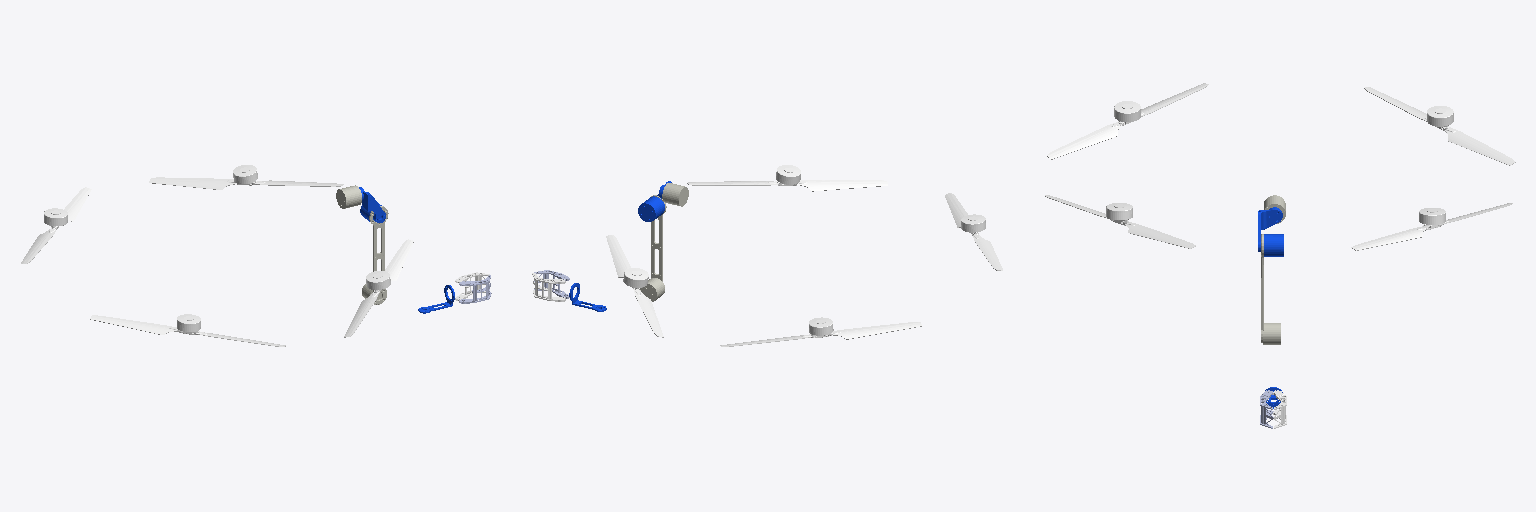
The robot description file, URDF, robot "swan_gamma_v2":
<?xml version="1.0" ?>
<robot name="swan_gamma_v2">
  <link name="base_link">
    <inertial>
      <origin xyz="-0.0035513 0.0013 -0.050331" rpy="0 0 0"/>
      <mass value="8.057"/>
      <inertia ixx="0.078395" ixy="0" ixz="0" iyy="0.422973" iyz="0" izz="0.493568"/>
    </inertial>
    <visual name="base_link_visual">
      <origin xyz="0 0 0" rpy="0 0 0"/>
      <geometry>
        <mesh filename="meshes/swan_uav_v2/base_link.STL" scale="1 1 1"/>
      </geometry>
      <material name="base_link_visual_0_mat">
        <color rgba="0.75294 0.75294 0.75294 1"/>
      </material>
    </visual>
    <collision name="base_link_collision">
      <origin xyz="0 0 -0.035" rpy="0 0 0"/>
      <geometry>
        <box size="0.42 0.30 0.08"/>
      </geometry>
    </collision>
    <collision name="landing_gear_front_left_foot_collision">
      <origin xyz="0.29254 -0.40851 -0.3" rpy="0 0 -0.034907"/>
      <geometry>
        <box size="0.18 0.12 0.09"/>
      </geometry>
    </collision>
    <collision name="landing_gear_rear_right_foot_collision">
      <origin xyz="-0.27747 0.4055 -0.3" rpy="0.038594 0.0021601 1.48"/>
      <geometry>
        <box size="0.18 0.12 0.09"/>
      </geometry>
    </collision>
    <collision name="landing_gear_front_right_foot_collision">
      <origin xyz="0.32013 0.38551 -0.3" rpy="0.13586 -0.002121 -1.5902"/>
      <geometry>
        <box size="0.18 0.12 0.09"/>
      </geometry>
    </collision>
    <collision name="landing_gear_rear_left_foot_collision">
      <origin xyz="-0.30506 -0.38852 -0.3" rpy="0.050542 0.0021537 1.4933"/>
      <geometry>
        <box size="0.18 0.12 0.09"/>
      </geometry>
    </collision>
  </link>
  <link name="rot1_Link">
    <inertial>
      <origin xyz="0.0052133 0.00055592 -0.044441" rpy="0 0 0"/>
      <mass value="0.471"/>
      <inertia ixx="2.787E-04" ixy="0" ixz="0" iyy="1.872E-04" iyz="0" izz="1.874E-04"/>
    </inertial>
    <visual name="rot1_Link_visual">
      <origin xyz="0 0 0" rpy="0 0 0"/>
      <geometry>
        <mesh filename="meshes/swan_uav_v2/rot1_Link.STL" scale="1 1 1"/>
      </geometry>
      <material name="rot1_Link_visual_0_mat">
        <color rgba="1 1 1 1"/>
      </material>
    </visual>
  </link>
  <link name="rot2_Link">
    <inertial>
      <origin xyz="-0.00055256 -0.00036989 -0.04471" rpy="0 0 0"/>
      <mass value="0.471"/>
      <inertia ixx="2.787E-04" ixy="0" ixz="0" iyy="1.872E-04" iyz="0" izz="1.874E-04"/>
    </inertial>
    <visual name="rot2_Link_visual">
      <origin xyz="0 0 0" rpy="0 0 0"/>
      <geometry>
        <mesh filename="meshes/swan_uav_v2/rot2_Link.STL" scale="1 1 1"/>
      </geometry>
      <material name="rot2_Link_visual_0_mat">
        <color rgba="1 1 1 1"/>
      </material>
    </visual>
  </link>
  <link name="rot3_Link">
    <inertial>
      <origin xyz="0.00023425 -3.3312e-06 -0.04471" rpy="0 0 0"/>
      <mass value="0.471"/>
      <inertia ixx="2.787E-04" ixy="0" ixz="0" iyy="1.872E-04" iyz="0" izz="1.874E-04"/>
    </inertial>
    <visual name="rot3_Link_visual">
      <origin xyz="0 0 0" rpy="0 0 0"/>
      <geometry>
        <mesh filename="meshes/swan_uav_v2/rot3_Link.STL" scale="1 1 1"/>
      </geometry>
      <material name="rot3_Link_visual_0_mat">
        <color rgba="1 1 1 1"/>
      </material>
    </visual>
  </link>
  <link name="rot4_Link">
    <inertial>
      <origin xyz="0.00037994 3.5059e-05 -0.045023" rpy="0 0 0"/>
      <mass value="0.471"/>
      <inertia ixx="2.787E-04" ixy="0" ixz="0" iyy="1.872E-04" iyz="0" izz="1.874E-04"/>
    </inertial>
    <visual name="rot4_Link_visual">
      <origin xyz="0 0 0" rpy="0 0 0"/>
      <geometry>
        <mesh filename="meshes/swan_uav_v2/rot4_Link.STL" scale="1 1 1"/>
      </geometry>
      <material name="rot4_Link_visual_0_mat">
        <color rgba="1 1 1 1"/>
      </material>
    </visual>
  </link>
  <joint name="rot1_Joint" type="continuous">
    <origin xyz="0.29254 -0.40851 -0.058329" rpy="0 0 -0.034907"/>
    <parent link="base_link"/>
    <child link="rot1_Link"/>
    <axis xyz="0 0 -1"/>
  </joint>
  <joint name="rot2_Joint" type="continuous">
    <origin xyz="-0.27747 0.4055 -0.058247" rpy="0.038594 0.0021601 1.48"/>
    <parent link="base_link"/>
    <child link="rot2_Link"/>
    <axis xyz="0 0 -1"/>
  </joint>
  <joint name="rot3_Joint" type="continuous">
    <origin xyz="0.32013 0.38551 -0.058348" rpy="0.13586 -0.002121 -1.5902"/>
    <parent link="base_link"/>
    <child link="rot3_Link"/>
    <axis xyz="0 0 -1"/>
  </joint>
  <joint name="rot4_Joint" type="continuous">
    <origin xyz="-0.30506 -0.38852 -0.058253" rpy="0.050542 0.0021537 1.4933"/>
    <parent link="base_link"/>
    <child link="rot4_Link"/>
    <axis xyz="0 0 -1"/>
  </joint>
  <link name="gamma_arm__gamma_arm_base_link">
    <inertial>
      <origin xyz="0.026 0 0" rpy="0 -0 0"/>
      <mass value="0.361"/>
      <inertia ixx="0.00014566" ixy="0" ixz="0" iyy="0.00015872" iyz="0" izz="0.00015872"/>
    </inertial>
    <visual name="gamma_arm_base_link_visual">
      <origin xyz="0 0 0" rpy="0 -0 0"/>
      <geometry>
        <mesh filename="meshes/gamma_arm/base_link0.STL" scale="1 1 1"/>
      </geometry>
      <material name="gamma_arm__gamma_arm_base_link_visual_0_mat">
        <color rgba="0.82 0.82 0.78 1"/>
      </material>
    </visual>
    <collision name="gamma_arm_base_link_collision">
      <origin xyz="0 0 0" rpy="0 0 0"/>
      <geometry>
        <mesh filename="meshes/gamma_arm/base_link0.STL" scale="1 1 1"/>
      </geometry>
    </collision>
  </link>
  <link name="gamma_arm__A_Link">
    <inertial>
      <origin xyz="0.036314 0.007409 0.053527" rpy="0 -0 0"/>
      <mass value="0.482"/>
      <inertia ixx="0.00048916" ixy="0" ixz="0" iyy="0.00049299" iyz="0" izz="0.0003462"/>
    </inertial>
    <visual name="A_Link_visual">
      <origin xyz="0 0 0" rpy="0 -0 0"/>
      <geometry>
        <mesh filename="meshes/gamma_arm/A_Link.STL" scale="1 1 1"/>
      </geometry>
      <material name="gamma_arm__A_Link_visual_0_mat">
        <color rgba="0.12 0.38 0.95 0.85"/>
      </material>
    </visual>
    <collision name="A_Link_collision">
      <origin xyz="0 0 0" rpy="0 0 0"/>
      <geometry>
        <mesh filename="meshes/gamma_arm/A_Link.STL" scale="1 1 1"/>
      </geometry>
    </collision>
  </link>
  <link name="gamma_arm__B_Link">
    <inertial>
      <origin xyz="-0.14539 -0.024762 0.16247" rpy="0 -0 0"/>
      <mass value="0.481"/>
      <inertia ixx="0.0015459" ixy="0" ixz="0" iyy="0.0025514" iyz="0" izz="0.0012874"/>
    </inertial>
    <visual name="B_Link_visual">
      <origin xyz="0 0 0" rpy="0 -0 0"/>
      <geometry>
        <mesh filename="meshes/gamma_arm/B_Link.STL" scale="1 1 1"/>
      </geometry>
      <material name="gamma_arm__B_Link_visual_0_mat">
        <color rgba="0.82 0.82 0.78 1"/>
      </material>
    </visual>
    <collision name="B_Link_collision">
      <origin xyz="0 0 0" rpy="0 0 0"/>
      <geometry>
        <mesh filename="meshes/gamma_arm/B_Link.STL" scale="1 1 1"/>
      </geometry>
    </collision>
  </link>
  <link name="gamma_arm__C_Link">
    <inertial>
      <origin xyz="0.0017414 0.023334 0.057853" rpy="0 -0 0"/>
      <mass value="0.239"/>
      <inertia ixx="0.00014499" ixy="0" ixz="0" iyy="0.0001552" iyz="0" izz="0.00010724"/>
    </inertial>
    <visual name="C_Link_visual">
      <origin xyz="0 0 0" rpy="0 -0 0"/>
      <geometry>
        <mesh filename="meshes/gamma_arm/C_Link.STL" scale="1 1 1"/>
      </geometry>
      <material name="gamma_arm__C_Link_visual_0_mat">
        <color rgba="0.12 0.38 0.95 0.85"/>
      </material>
    </visual>
    <collision name="C_Link_collision">
      <origin xyz="0 0 0" rpy="0 0 0"/>
      <geometry>
        <mesh filename="meshes/gamma_arm/C_Link.STL" scale="1 1 1"/>
      </geometry>
    </collision>
  </link>
  <link name="gamma_arm__D_Link">
    <inertial>
      <origin xyz="0.13241 -0.004409 7.6e-05" rpy="0 -0 0"/>
      <mass value="0.262"/>
      <inertia ixx="0.00010245" ixy="0" ixz="0" iyy="0.00052076" iyz="0" izz="0.0005369"/>
    </inertial>
    <visual name="D_Link_visual">
      <origin xyz="0 0 0" rpy="0 -0 0"/>
      <geometry>
        <mesh filename="meshes/gamma_arm/D_Link.STL" scale="1 1 1"/>
      </geometry>
      <material name="gamma_arm__D_Link_visual_0_mat">
        <color rgba="0.82 0.82 0.78 1"/>
      </material>
    </visual>
    <collision name="D_Link_collision">
      <origin xyz="0 0 0" rpy="0 0 0"/>
      <geometry>
        <mesh filename="meshes/gamma_arm/D_Link.STL" scale="1 1 1"/>
      </geometry>
    </collision>
  </link>
  <link name="gamma_arm__E_Link">
    <inertial>
      <origin xyz="1.62e-06 0.014793 0.051607" rpy="0 -0 0"/>
      <mass value="0.042397"/>
      <inertia ixx="6.544e-05" ixy="0" ixz="0" iyy="5.714e-05" iyz="0" izz="2.005e-05"/>
    </inertial>
    <visual name="E_Link_visual">
      <origin xyz="0 0 0" rpy="0 -0 0"/>
      <geometry>
        <mesh filename="meshes/gamma_arm/E_Link.STL" scale="1 1 1"/>
      </geometry>
      <material name="gamma_arm__E_Link_visual_0_mat">
        <color rgba="0.12 0.38 0.95 0.85"/>
      </material>
    </visual>
    <collision name="E_Link_collision">
      <origin xyz="0 0 0" rpy="0 0 0"/>
      <geometry>
        <mesh filename="meshes/gamma_arm/E_Link.STL" scale="1 1 1"/>
      </geometry>
    </collision>
  </link>
  <link name="gamma_arm__F_Link">
    <inertial>
      <origin xyz="-4.643e-05 0.00010323 -0.024394" rpy="0 -0 0"/>
      <mass value="0.192"/>
      <inertia ixx="8.297e-05" ixy="0" ixz="0" iyy="8.274e-05" iyz="0" izz="6.854e-05"/>
    </inertial>
    <visual name="F_Link_visual">
      <origin xyz="0 0 0" rpy="0 -0 0"/>
      <geometry>
        <mesh filename="meshes/gamma_arm/F_Link.STL" scale="1 1 1"/>
      </geometry>
      <material name="gamma_arm__F_Link_visual_0_mat">
        <color rgba="0.82 0.82 0.78 1"/>
      </material>
    </visual>
    <collision name="F_Link_collision">
      <origin xyz="0 0 0" rpy="0 0 0"/>
      <geometry>
        <mesh filename="meshes/gamma_arm/F_Link.STL" scale="1 1 1"/>
      </geometry>
    </collision>
  </link>
  <joint name="gamma_arm__A" type="revolute">
    <origin xyz="0.0613 0 0" rpy="-0.5 0 0"/>
    <parent link="gamma_arm__gamma_arm_base_link"/>
    <child link="gamma_arm__A_Link"/>
    <axis xyz="1 0 0"/>
    <dynamics damping="0.5" friction="0.01"/>
    <limit lower="-5.0" upper="5.0" effort="180" velocity="3.75"/>
  </joint>
  <joint name="gamma_arm__B" type="revolute">
    <origin xyz="0.042986 0.03395 0.064067" rpy="0 0.7299 0"/>
    <parent link="gamma_arm__A_Link"/>
    <child link="gamma_arm__B_Link"/>
    <axis xyz="0 -1 0"/>
    <dynamics damping="0.5" friction="0.01"/>
    <limit lower="-3.2" upper="3.2" effort="200" velocity="3.75"/>
  </joint>
  <joint name="gamma_arm__C" type="revolute">
    <origin xyz="-0.16587 -0.057 0.18536" rpy="0 -0.87406 0"/>
    <parent link="gamma_arm__B_Link"/>
    <child link="gamma_arm__C_Link"/>
    <axis xyz="0 -1 0"/>
    <dynamics damping="0.5" friction="0.01"/>
    <limit lower="-3.2" upper="3.2" effort="80" velocity="3.75"/>
  </joint>
  <joint name="gamma_arm__D" type="revolute">
    <origin xyz="0.023891 0.025 0.060208" rpy="-1.5708 0.14406 0"/>
    <parent link="gamma_arm__C_Link"/>
    <child link="gamma_arm__D_Link"/>
    <axis xyz="1 0 0"/>
    <dynamics damping="0.5" friction="0.01"/>
    <limit lower="-3.2" upper="3.2" effort="20" velocity="3.75"/>
  </joint>
  <joint name="gamma_arm__E" type="revolute">
    <origin xyz="0.15 -0.0335 0" rpy="0 1.57073 0"/>
    <parent link="gamma_arm__D_Link"/>
    <child link="gamma_arm__E_Link"/>
    <axis xyz="0 -1 0"/>
    <dynamics damping="0.5" friction="0.01"/>
    <limit lower="-3.2" upper="3.2" effort="10" velocity="3.75"/>
  </joint>
  <joint name="gamma_arm__F" type="revolute">
    <origin xyz="0 0.035 0.084" rpy="0 0 0"/>
    <parent link="gamma_arm__E_Link"/>
    <child link="gamma_arm__F_Link"/>
    <axis xyz="0 0 1"/>
    <dynamics damping="0.5" friction="0.01"/>
    <limit lower="-3.2" upper="3.2" effort="20" velocity="3.75"/>
  </joint>
  <link name="gripper4__base_link">
    <inertial>
      <origin xyz="0 0 0" rpy="0 0 0"/>
      <mass value="0.090444"/>
      <inertia ixx="3.3873e-05" ixy="-7.5446e-07" ixz="4.9143e-07" iyy="2.568e-05" iyz="2.0521e-09" izz="2.1853e-05"/>
    </inertial>
    <visual name="base_link_visual">
      <origin xyz="0.023531 0.9743 -0.031805" rpy="0 0 0"/>
      <geometry>
        <mesh filename="meshes/gripper4/base_link.STL" scale="1 1 1"/>
      </geometry>
      <material name="gripper4__base_link_visual_0_mat">
        <color rgba="0.79216 0.81961 0.93333 1"/>
      </material>
    </visual>
    <collision name="base_link_collision">
      <origin xyz="0.023531 0.9743 -0.031805" rpy="0 0 0"/>
      <geometry>
        <mesh filename="meshes/gripper4/base_link.STL" scale="1 1 1"/>
      </geometry>
    </collision>
  </link>
  <link name="gripper4__jaw_left">
    <inertial>
      <origin xyz="0.028325 0.030931 0.022724" rpy="0 0 0"/>
      <mass value="0.035281"/>
      <inertia ixx="1.8799e-05" ixy="1.8575e-07" ixz="-1.3686e-05" iyy="3.2532e-05" iyz="1.7384e-07" izz="1.5725e-05"/>
    </inertial>
    <visual name="jaw_left_visual">
      <origin xyz="0 0 0" rpy="0 0 0"/>
      <geometry>
        <mesh filename="meshes/gripper4/jaw_left.STL" scale="1 1 1"/>
      </geometry>
      <material name="gripper4__jaw_left_visual_0_mat">
        <color rgba="0.79216 0.81961 0.93333 1"/>
      </material>
    </visual>
    <collision name="jaw_left_collision">
      <origin xyz="0 0 0" rpy="0 0 0"/>
      <geometry>
        <mesh filename="meshes/gripper4/jaw_left.STL" scale="1 1 1"/>
      </geometry>
    </collision>
  </link>
  <link name="gripper4__jaw_right">
    <inertial>
      <origin xyz="-0.028325 0.030931 0.022724" rpy="0 0 0"/>
      <mass value="0.035281"/>
      <inertia ixx="1.8799e-05" ixy="-1.8575e-07" ixz="1.3686e-05" iyy="3.2532e-05" iyz="-1.7384e-07" izz="1.5725e-05"/>
    </inertial>
    <visual name="jaw_right_visual">
      <origin xyz="0 0 0" rpy="0 0 0"/>
      <geometry>
        <mesh filename="meshes/gripper4/jaw_right.STL" scale="1 1 1"/>
      </geometry>
      <material name="gripper4__jaw_right_visual_0_mat">
        <color rgba="1 1 1 1"/>
      </material>
    </visual>
    <collision name="jaw_right_collision">
      <origin xyz="0 0 0" rpy="0 0 0"/>
      <geometry>
        <mesh filename="meshes/gripper4/jaw_right.STL" scale="1 1 1"/>
      </geometry>
    </collision>
  </link>
  <joint name="gripper4__motor_left_jaw" type="revolute">
    <origin xyz="-0.010276 0.02945 0.01063" rpy="0 -0.71707 3.1416"/>
    <parent link="gripper4__base_link"/>
    <child link="gripper4__jaw_left"/>
    <axis xyz="0 1 0"/>
    <dynamics damping="0.35" friction="0.02"/>
    <limit lower="-0.3" upper="1.5" effort="18.0" velocity="0.8"/>
  </joint>
  <joint name="gripper4__follow_right_jaw" type="revolute">
    <origin xyz="0.0141241 0.03196 0.010695" rpy="1.5708 0.22743 0"/>
    <parent link="gripper4__base_link"/>
    <child link="gripper4__jaw_right"/>
    <axis xyz="0 0 -1"/>
    <dynamics damping="0.35" friction="0.02"/>
    <limit lower="-0.3" upper="1.5" effort="18.0" velocity="0.8"/>
  </joint>
  <joint name="swan_uav_arm_joint" type="fixed">
    <origin xyz="0.405 -0.015 -0.0295" rpy="-2.6443 0 0"/>
    <parent link="base_link"/>
    <child link="gamma_arm__gamma_arm_base_link"/>
  </joint>
  <joint name="swan_gripper_joint" type="fixed">
    <origin xyz="-0.003 0 0.025" rpy="0 0 0"/>
    <parent link="gamma_arm__F_Link"/>
    <child link="gripper4__base_link"/>
  </joint>
</robot>

--- What the picture shows (computed from the rendered views, not written in the file) ---
The picture shows the robot from 3 angles, left to right: view 1: azimuth 30°, elevation 25°; view 2: azimuth 150°, elevation 25°; view 3: azimuth 270°, elevation 25°; orthographic projection.
Robot: swan_gamma_v2 — 15 links, 14 joints (8 revolute, 4 continuous, 2 fixed); root link base_link; default pose: all joints at 0.
Links seen in each view (by area): view 1: rot3_Link, rot4_Link, rot1_Link, rot2_Link, gamma_arm__B_Link; view 2: rot1_Link, rot3_Link, rot2_Link, rot4_Link, gamma_arm__B_Link, gamma_arm__A_Link; view 3: rot4_Link, rot2_Link, rot1_Link, rot3_Link, gamma_arm__A_Link, gamma_arm__B_Link.
Link boxes in pixels (x1,y1,x2,y2): rot3_Link: (149, 165, 343, 189); rot4_Link: (90, 314, 285, 346); rot1_Link: (344, 239, 413, 337); rot2_Link: (21, 187, 91, 263); gamma_arm__B_Link: (362, 206, 388, 304); rot1_Link: (687, 165, 887, 191); rot3_Link: (606, 235, 663, 337); rot2_Link: (720, 317, 921, 346); rot4_Link: (945, 193, 1002, 270); gamma_arm__B_Link: (640, 195, 666, 301); gamma_arm__A_Link: (638, 181, 671, 221); rot4_Link: (1047, 83, 1208, 159); rot2_Link: (1364, 87, 1515, 165); rot1_Link: (1045, 195, 1195, 248); rot3_Link: (1351, 203, 1512, 250); gamma_arm__A_Link: (1258, 207, 1283, 256); gamma_arm__B_Link: (1261, 234, 1280, 344).
Size in the robot's own frame: 1.4 by 1.2 by 0.4378 metres.
Meshes: 15 distinct files referenced, 10 mesh visuals loaded (10 binary STL); not drawn: 5 (reference not matched to a file when rendering).
